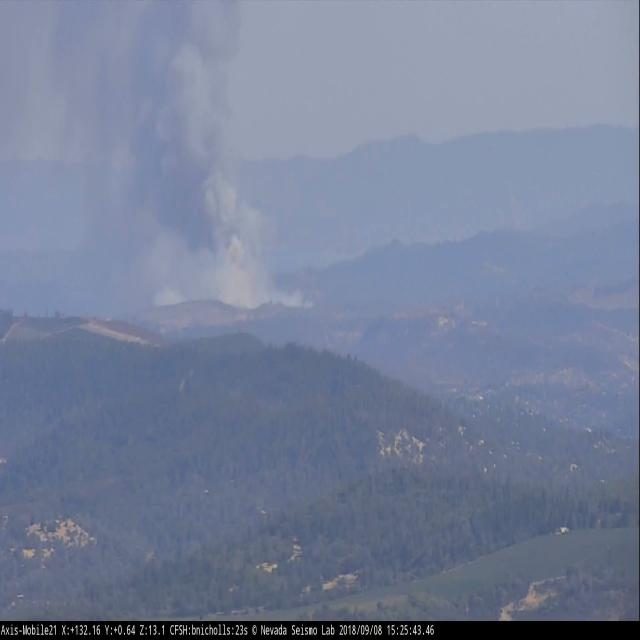smoke: (48, 0, 322, 312)
